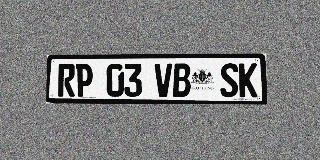0: (106, 64, 124, 97)
3: (124, 64, 142, 97)
B: (173, 63, 191, 97)
K: (239, 63, 257, 97)
P: (75, 64, 93, 97)
R: (58, 64, 75, 97)
S: (220, 63, 238, 97)
V: (154, 63, 172, 97)
